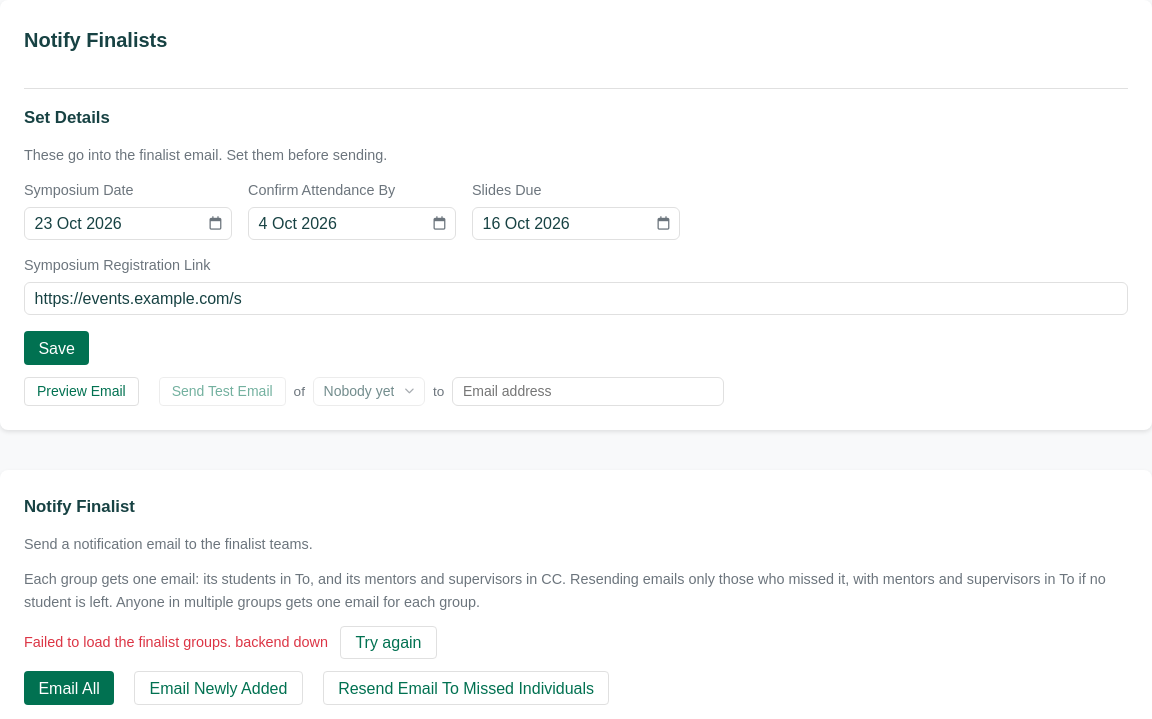
Test: the finalist roster › offers a retry when the roster fails to load
The image size is (1152, 719).
Expected: the element with class "notify-finalists__load-error" shows "Failed to load the finalist groups.", [24,634,328,650]
Click the button "Try again" at (388, 643), box [340,626,437,659]
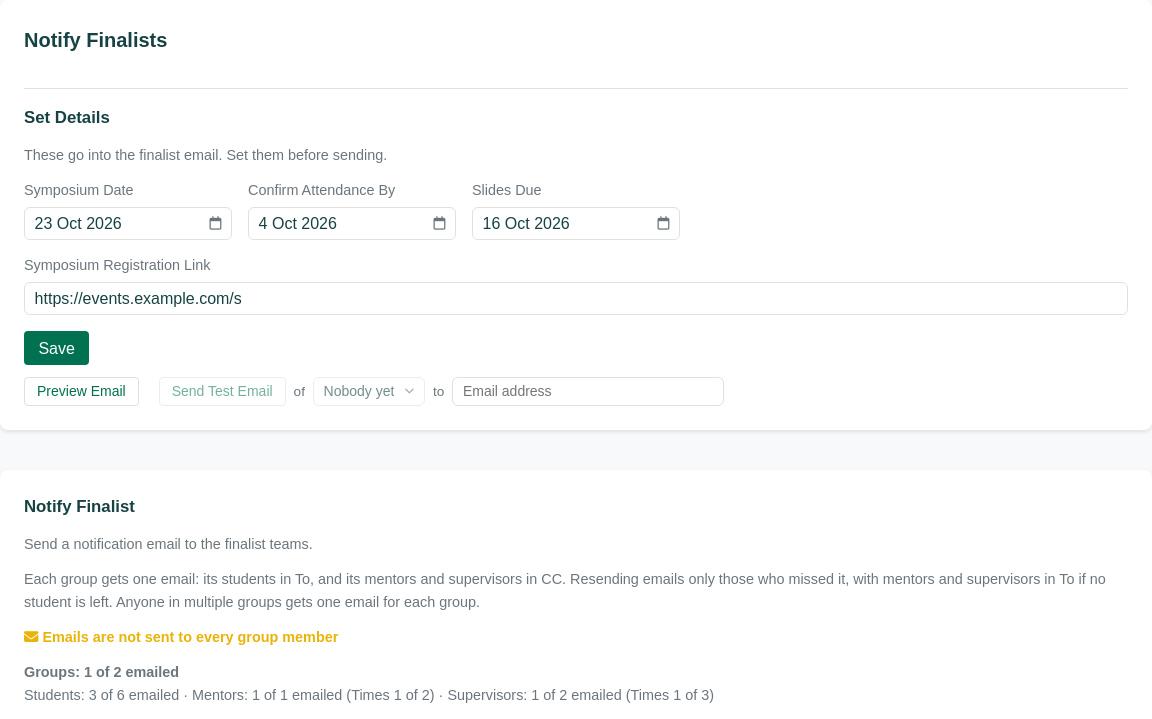
Expected: the element with class "notify-finalists__status" is shown, [24,629,338,645]
